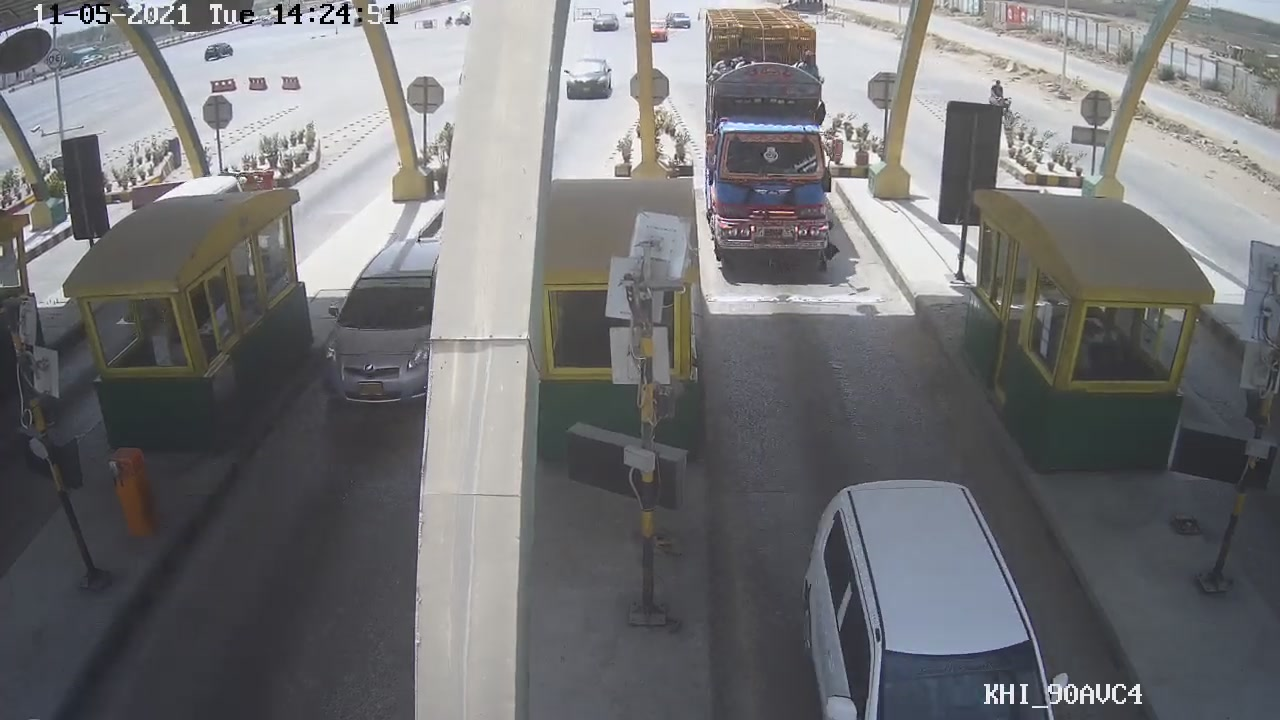F5: (696, 30, 847, 259)
